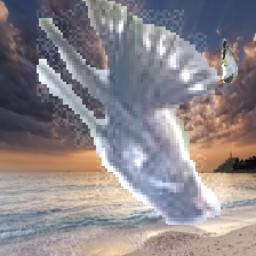Cuckoo: (219, 40, 238, 84)
Swallow: (37, 0, 226, 225)
